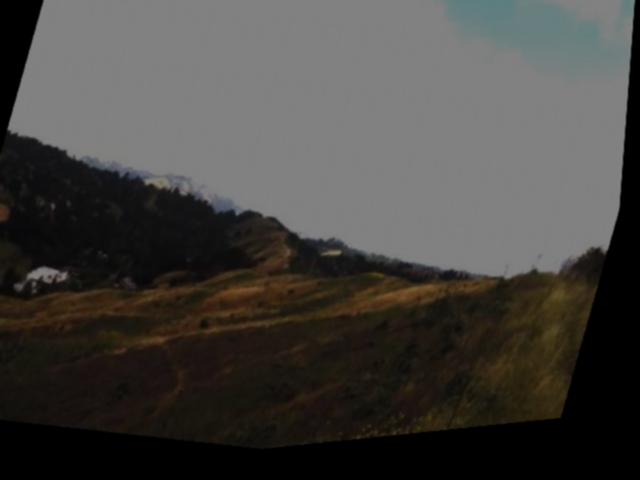iha: (318, 88, 345, 104)
